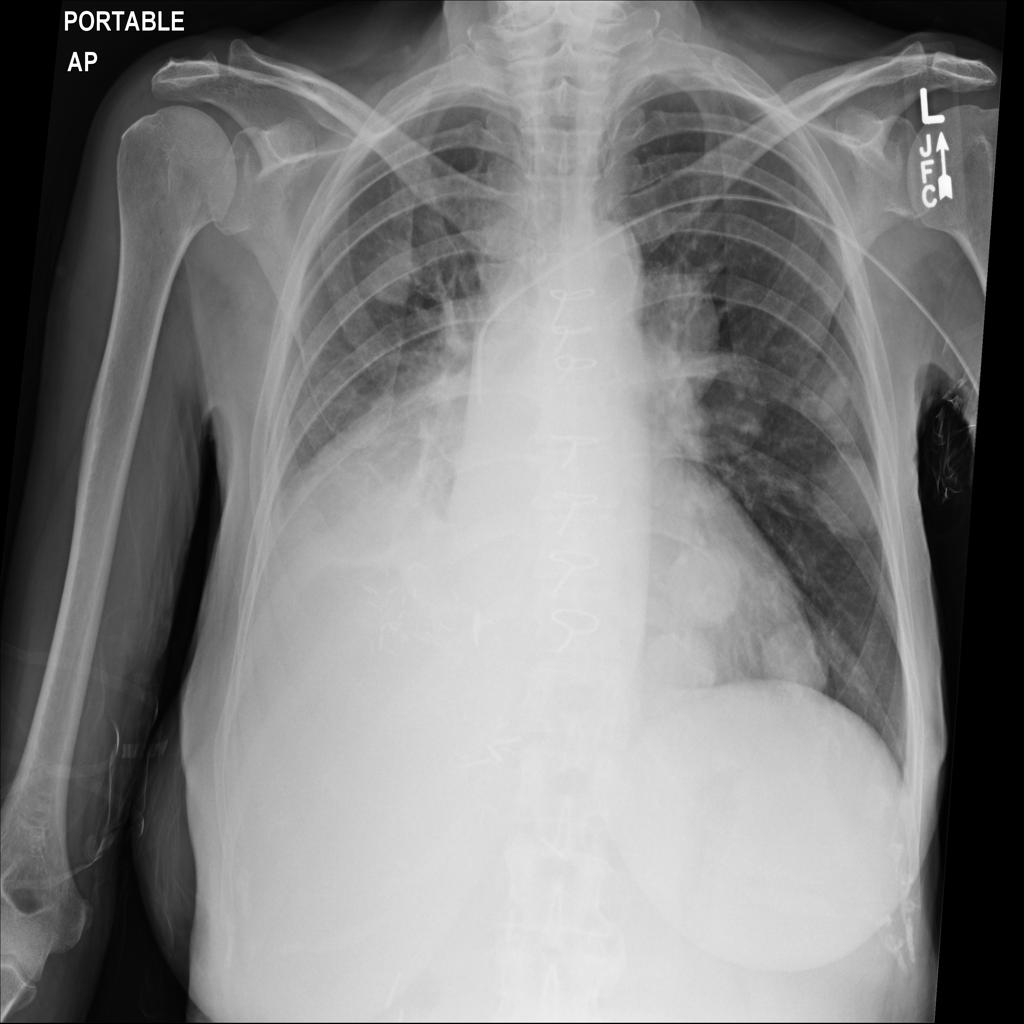nodule: (603, 256, 745, 448), (748, 605, 844, 721), (804, 440, 899, 552), (658, 531, 753, 636), (641, 622, 723, 703), (356, 226, 430, 315), (800, 357, 867, 439)
